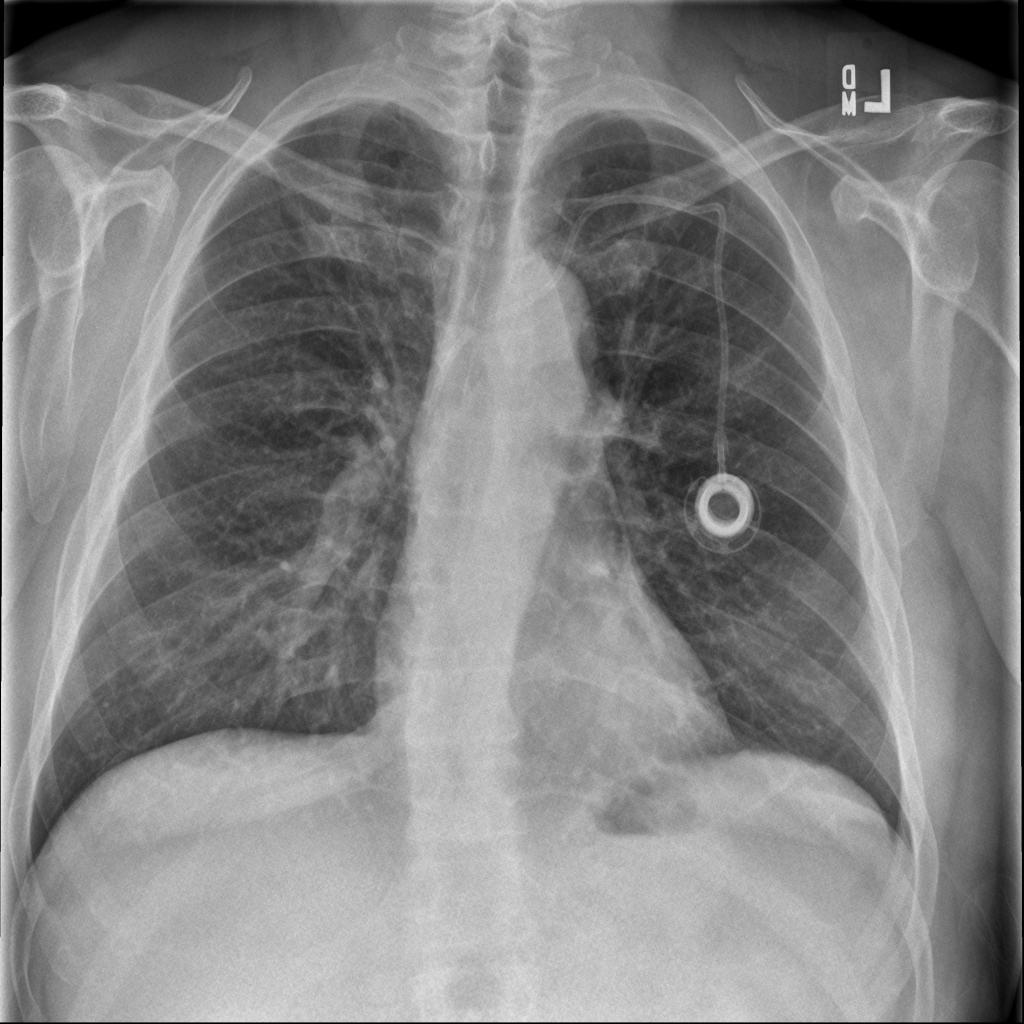Nodule: (101, 64, 128, 102)
